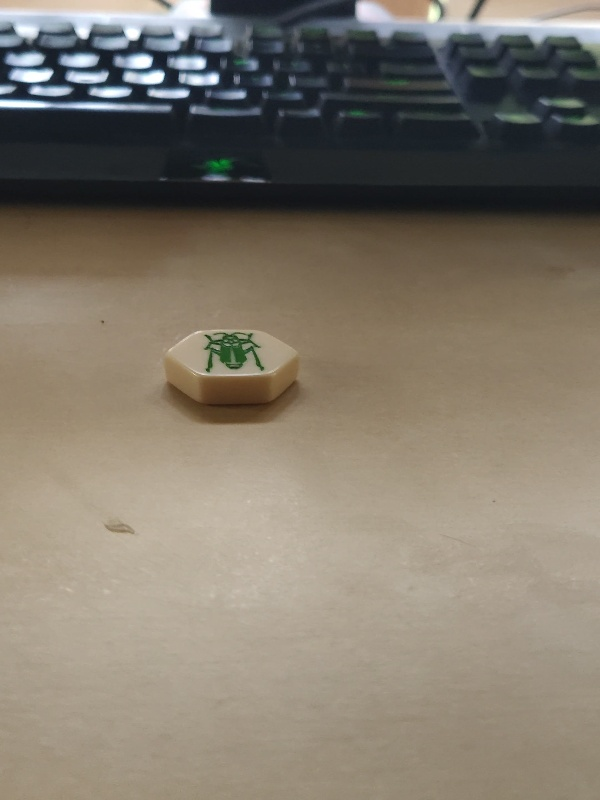white_grasshopper: (165, 328, 304, 408)
